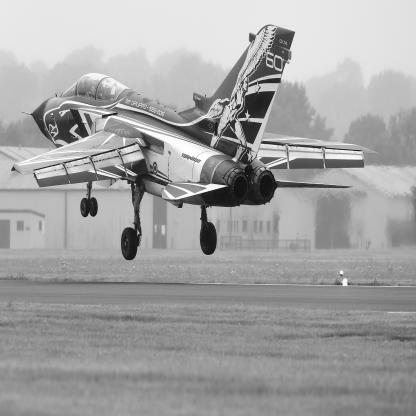Tornado: (12, 25, 381, 261)
